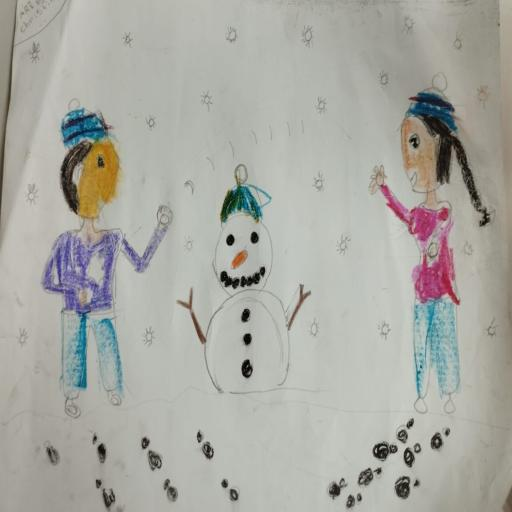person: (358, 67, 498, 416), (38, 97, 174, 424)
